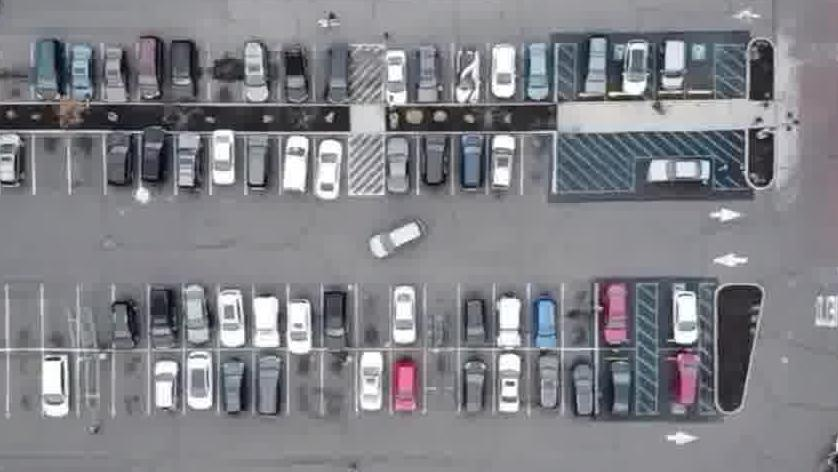car: (353, 354, 391, 421), (39, 353, 74, 423), (32, 34, 68, 99), (164, 40, 199, 105), (310, 137, 345, 202), (640, 154, 711, 186), (131, 37, 162, 106), (101, 134, 137, 193), (496, 355, 529, 419), (253, 359, 285, 425), (181, 350, 215, 412), (369, 221, 429, 256), (484, 134, 517, 197), (138, 128, 171, 191), (217, 356, 249, 419), (320, 288, 351, 353), (319, 47, 350, 111), (276, 142, 309, 202), (280, 296, 314, 354), (147, 285, 178, 348), (152, 355, 183, 418), (241, 138, 273, 199), (601, 280, 631, 345), (391, 280, 420, 345), (243, 39, 271, 106), (460, 359, 491, 419), (390, 359, 421, 419), (250, 294, 282, 352), (615, 38, 648, 94), (216, 289, 246, 350), (382, 139, 411, 201), (419, 136, 449, 195), (457, 134, 486, 195), (492, 296, 523, 353), (489, 38, 518, 98), (413, 46, 442, 106), (569, 360, 597, 422), (655, 36, 686, 92), (171, 134, 200, 193), (674, 351, 703, 410), (579, 38, 608, 96), (65, 46, 94, 104), (110, 297, 140, 353), (607, 357, 634, 419), (671, 287, 699, 346), (522, 40, 549, 101), (281, 48, 307, 111), (384, 51, 411, 111), (185, 282, 210, 346), (454, 49, 482, 106), (534, 354, 561, 413), (211, 125, 237, 186), (532, 297, 561, 350), (101, 46, 126, 107), (0, 139, 26, 197), (462, 300, 486, 353)
